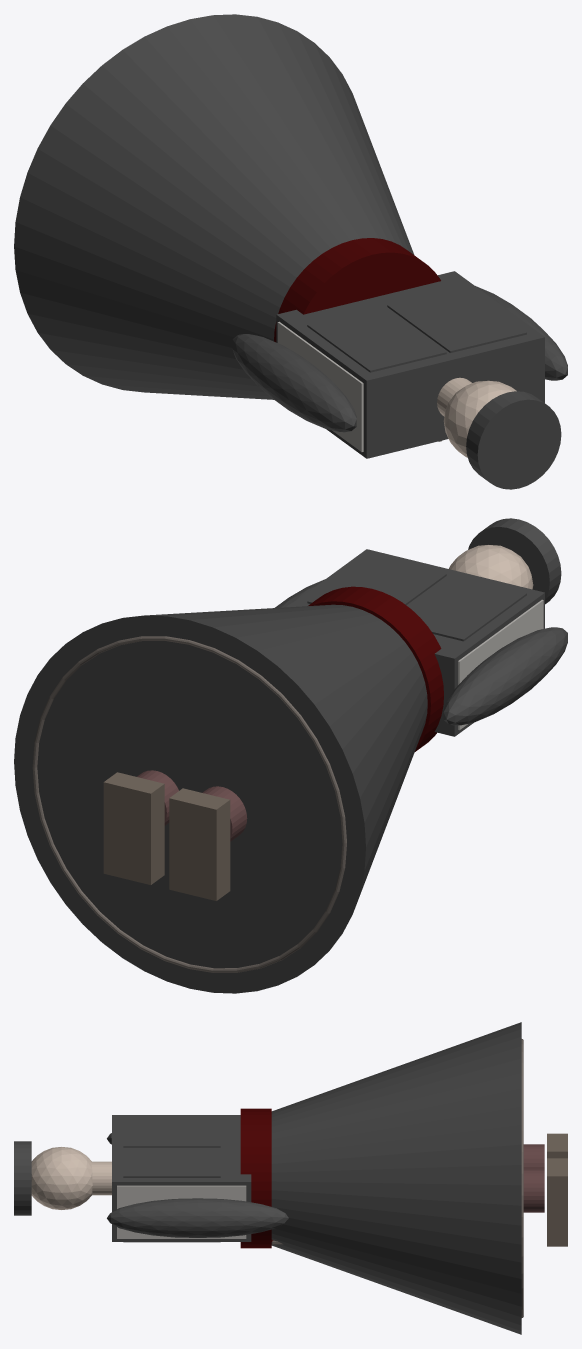
The model's file is MASTER_092_STAGE3_DETAIL.glb.
The picture shows the model from 3 angles, top to bottom: view 1: azimuth 30°, elevation 25°; view 2: azimuth 150°, elevation 25°; view 3: azimuth 270°, elevation 25°; orthographic projection. The views are drawn at different scales.
Visible parts, largest first — view 1: slot_lower_main__fund_i_gjatë, slot_upper_inner__këmishë, slot_waist__brez, slot_headwear__mbulesë_koke, slot_upper_inner_sleeve_L, slot_upper_outer__jelek_L, slot_upper_outer__jelek_R, mannequin_torso, mannequin_head, slot_upper_inner_sleeve_R; view 2: slot_lower_main__fund_i_gjatë, slot_footwear__opinga_R, slot_footwear__opinga_L, slot_upper_inner_sleeve_L, detail_skirt_hem, slot_waist__brez, slot_upper_inner__këmishë, slot_upper_outer__jelek_L, slot_headwear__mbulesë_koke, slot_upper_outer__jelek_R, mannequin_head, mannequin_torso (+2 smaller); view 3: slot_lower_main__fund_i_gjatë, slot_upper_inner_sleeve_R, slot_upper_inner__këmishë, mannequin_head, slot_waist__brez, slot_upper_outer__jelek_R, slot_upper_outer__jelek_L, mannequin_torso, slot_footwear__opinga_R, slot_headwear__mbulesë_koke, slot_legwear__çorape_R, detail_skirt_hem (+3 smaller).
Boxes of the visible parts, box(x1,y1,x2,y2) form: slot_lower_main__fund_i_gjatë: box(14, 14, 414, 399); slot_upper_inner__këmishë: box(276, 271, 544, 458); slot_waist__brez: box(274, 238, 440, 342); slot_headwear__mbulesë_koke: box(466, 391, 561, 489); slot_upper_inner_sleeve_L: box(232, 334, 356, 432); slot_upper_outer__jelek_L: box(307, 306, 446, 372); slot_upper_outer__jelek_R: box(387, 286, 526, 352); mannequin_torso: box(277, 321, 363, 451); mannequin_head: box(443, 380, 516, 457); slot_upper_inner_sleeve_R: box(475, 286, 567, 380); slot_lower_main__fund_i_gjatë: box(14, 604, 427, 993); slot_footwear__opinga_R: box(103, 772, 164, 884); slot_footwear__opinga_L: box(169, 788, 230, 900); slot_upper_inner_sleeve_L: box(443, 627, 567, 725); detail_skirt_hem: box(32, 636, 346, 972); slot_waist__brez: box(308, 586, 443, 751); slot_upper_inner__këmishë: box(287, 549, 544, 736); slot_upper_outer__jelek_L: box(407, 575, 526, 641); slot_headwear__mbulesë_koke: box(468, 518, 561, 604); slot_upper_outer__jelek_R: box(307, 555, 446, 605); mannequin_head: box(449, 545, 533, 589); mannequin_torso: box(458, 599, 543, 730); slot_lower_main__fund_i_gjatë: box(271, 1022, 521, 1334); slot_upper_inner_sleeve_R: box(107, 1198, 288, 1237); slot_upper_inner__këmishë: box(112, 1115, 251, 1241); mannequin_head: box(31, 1147, 92, 1209); slot_waist__brez: box(240, 1108, 271, 1248); slot_upper_outer__jelek_R: box(123, 1147, 220, 1242); slot_upper_outer__jelek_L: box(123, 1117, 220, 1147); mannequin_torso: box(117, 1185, 246, 1238); slot_footwear__opinga_R: box(547, 1158, 567, 1246); slot_headwear__mbulesë_koke: box(14, 1141, 31, 1215); slot_legwear__çorape_R: box(523, 1169, 544, 1212); detail_skirt_hem: box(521, 1039, 523, 1317).
Size of the model in its own units: 0.967 by 0.967 by 1.71.
